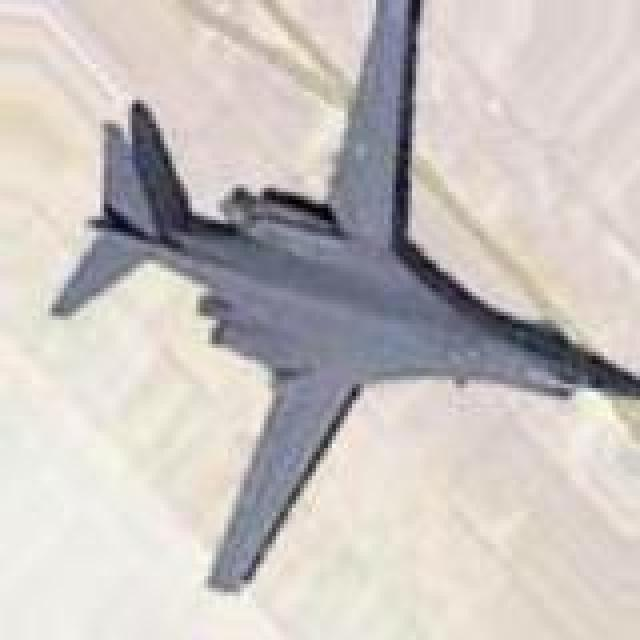B-1_TopDown: (44, 0, 636, 592)
